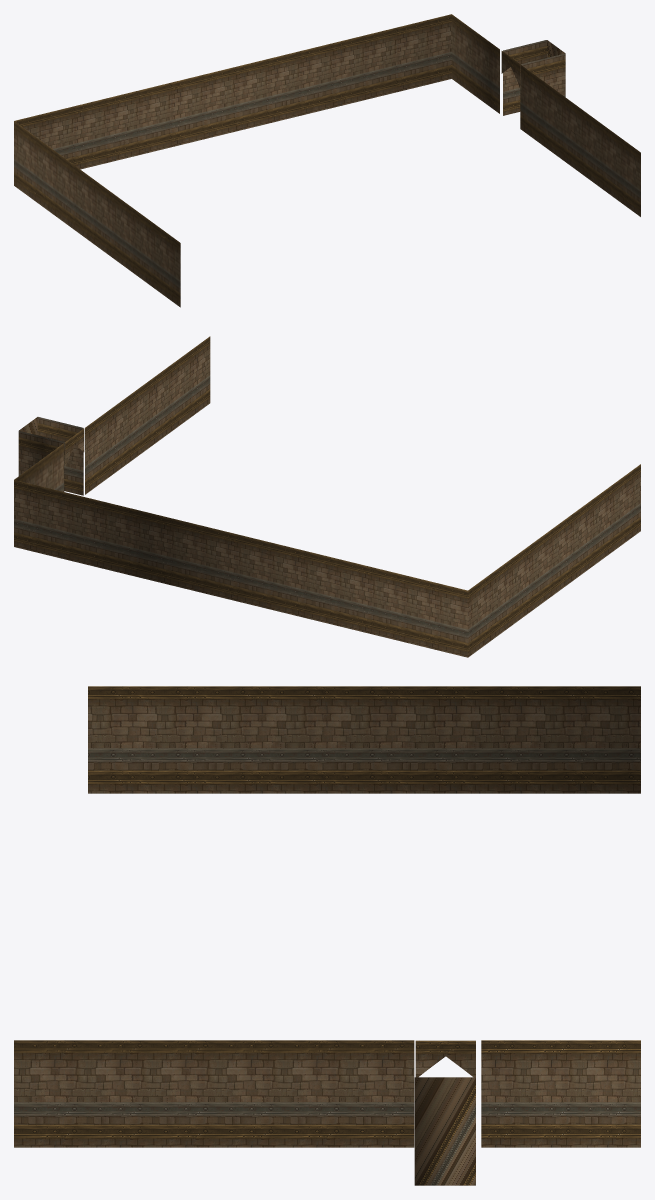
File: weiqiang_1.FBX
3 renders of one model, top to bottom at view 1: azimuth 30°, elevation 25°; view 2: azimuth 150°, elevation 25°; view 3: azimuth 270°, elevation 25°, orthographic. The views are drawn at different scales.
Visible parts, largest first — view 1: weiqiang; view 2: weiqiang; view 3: weiqiang.
Boxes of the visible parts, x1,y1,x2,y2 form: weiqiang: (14,14,640,307); weiqiang: (14,336,640,657); weiqiang: (14,686,640,1185).
Bounding box in the file's own units: 4968 × 645 × 3369.
